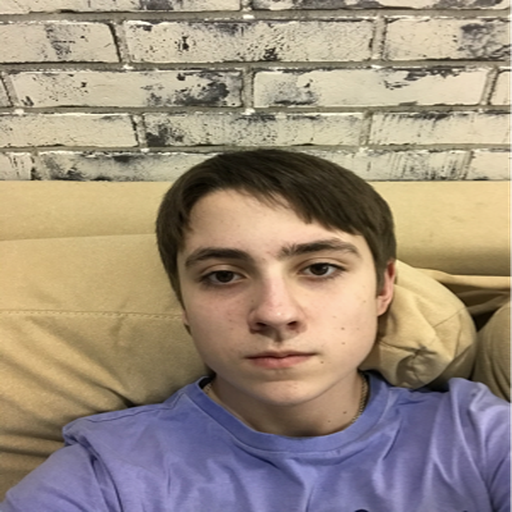person: (190, 229, 363, 384)
